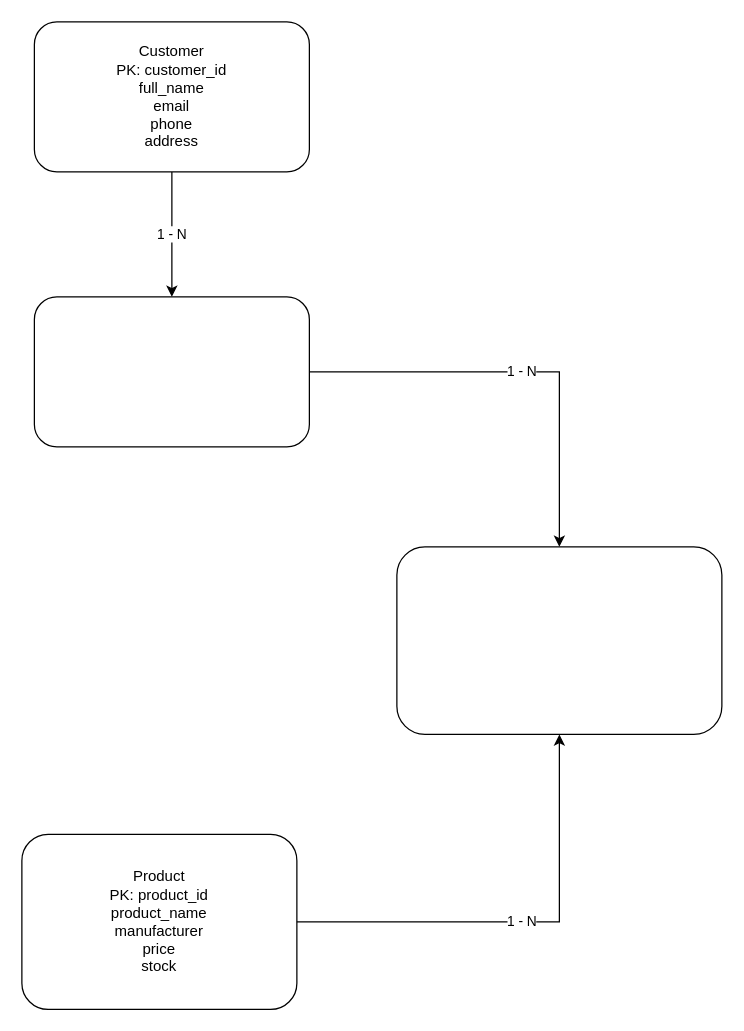
The diagram is 744 pixels wide and 1031 high, and some of its shapes have lost their labels. Each missing label, with the box of its shape:
Order PK: order_id orderDate totalAmount FK: customer_id: (33, 296, 309, 447)
Order_Detail PK: order_id, product_id FK: order_id FK: product_id quantity price: (396, 546, 722, 734)
